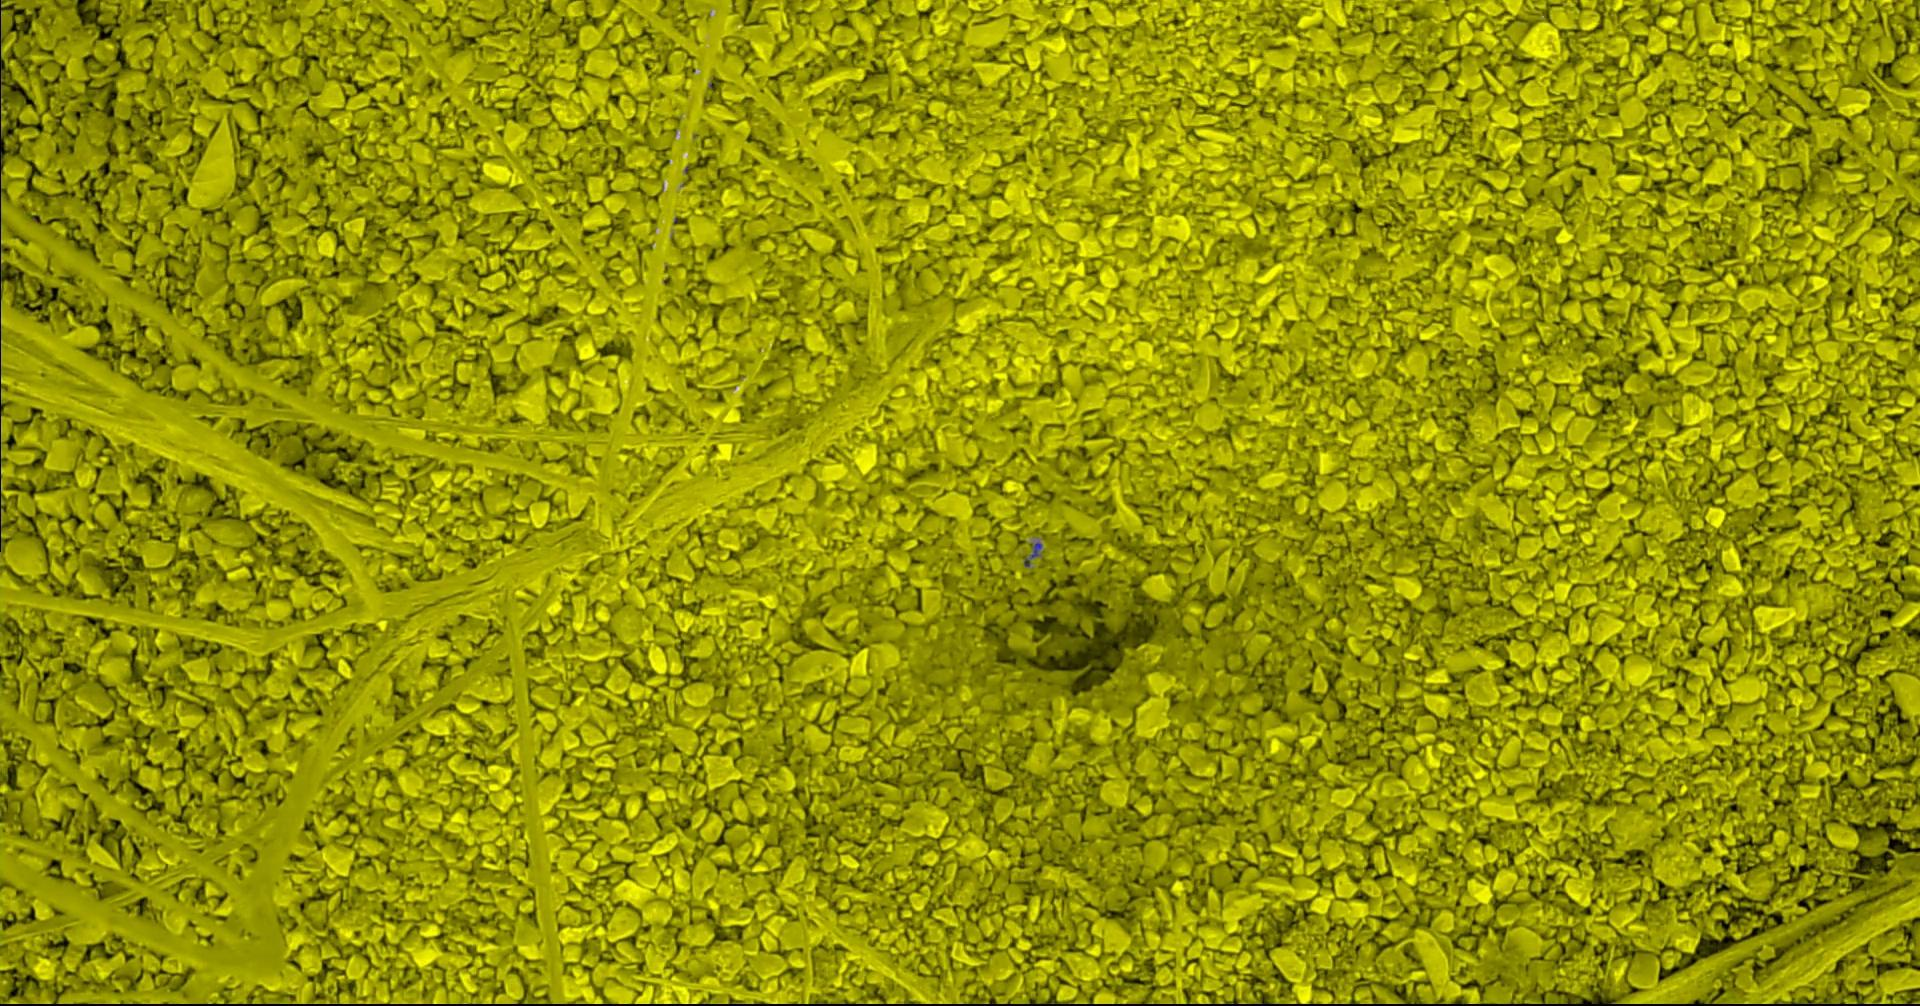ant: (1025, 542, 1043, 567)
